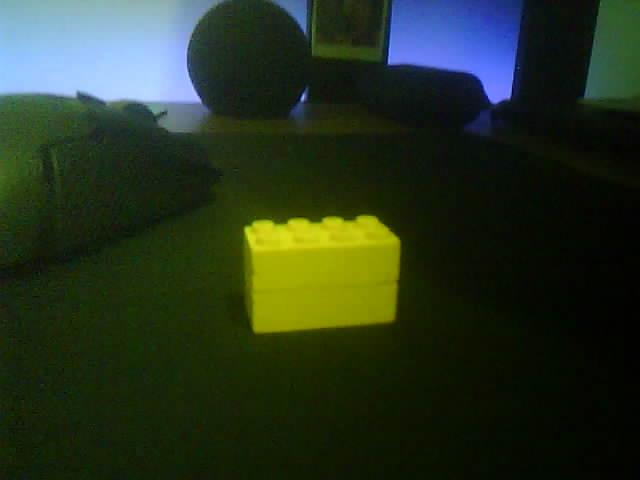lego: (241, 214, 402, 335)
